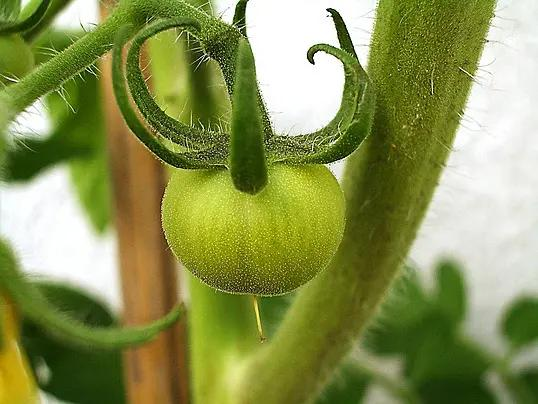Muda: (139, 94, 349, 323)
